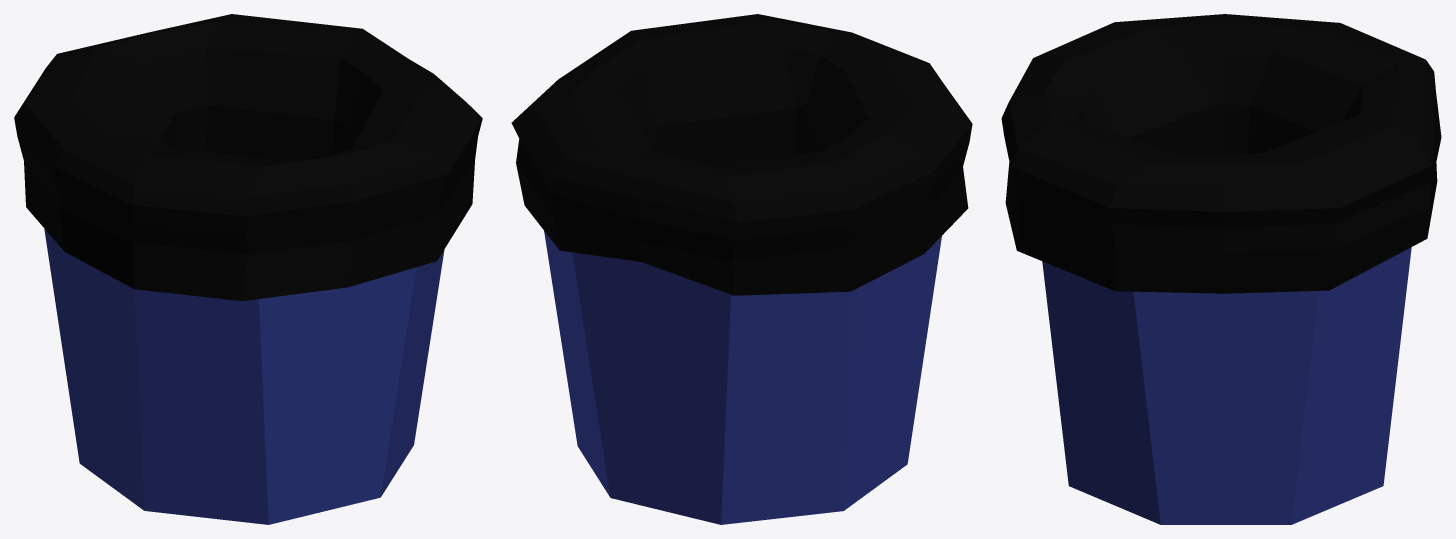
Rendered from H_Garbage_2.fbx.
3 views of the same model, side by side, from view 1: azimuth 30°, elevation 25°; view 2: azimuth 150°, elevation 25°; view 3: azimuth 270°, elevation 25° (orthographic). The views are drawn at different scales.
Parts seen in each view (by area): view 1: H_Garbage_2; view 2: H_Garbage_2; view 3: H_Garbage_2.
Boxes of the visible parts, bbox=[...] form: H_Garbage_2: bbox=[14, 14, 482, 524]; H_Garbage_2: bbox=[511, 14, 972, 524]; H_Garbage_2: bbox=[1001, 14, 1441, 524].
Size of the model in its own units: 230 by 228 by 210.
